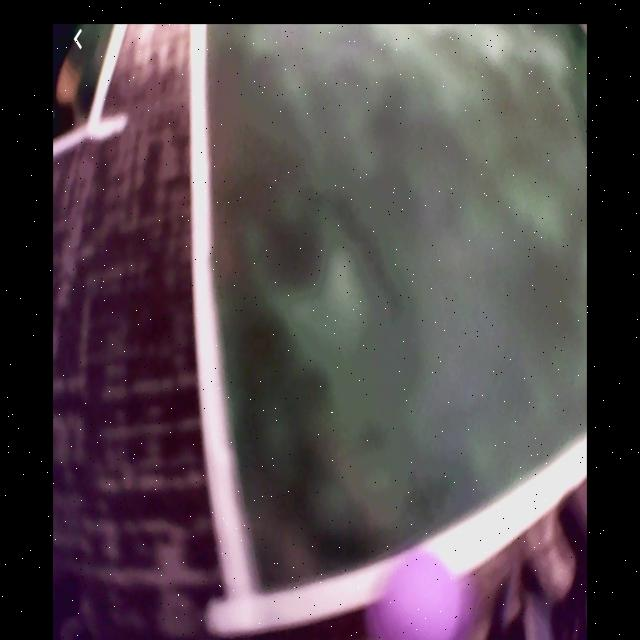ball: (366, 551, 464, 640)
